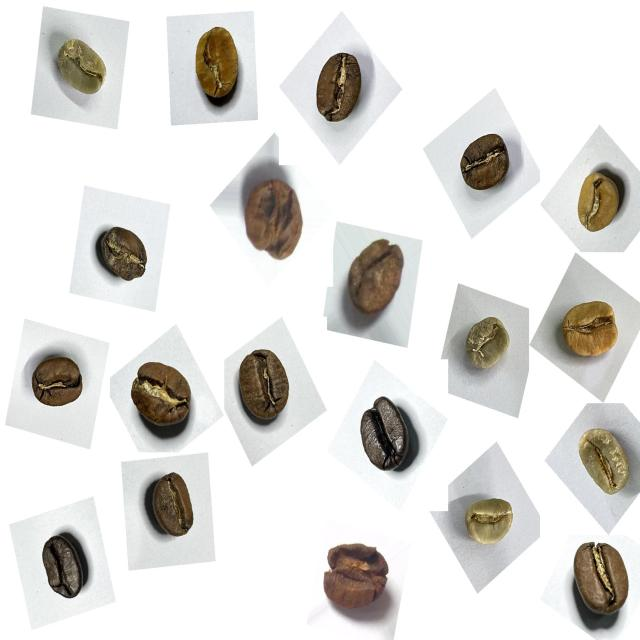bad: (314, 526, 401, 626), (234, 166, 316, 271), (336, 231, 412, 330)
dark: (347, 387, 424, 484), (31, 521, 98, 610)
green: (566, 416, 639, 508), (42, 28, 118, 112), (456, 308, 521, 385), (458, 489, 524, 560)
light: (180, 19, 252, 119), (551, 286, 627, 372), (567, 162, 632, 246)
medium: (561, 530, 640, 632), (120, 349, 202, 447), (228, 340, 306, 437), (304, 45, 375, 139), (140, 465, 207, 551), (452, 122, 520, 204), (24, 345, 94, 422), (89, 216, 157, 294)
